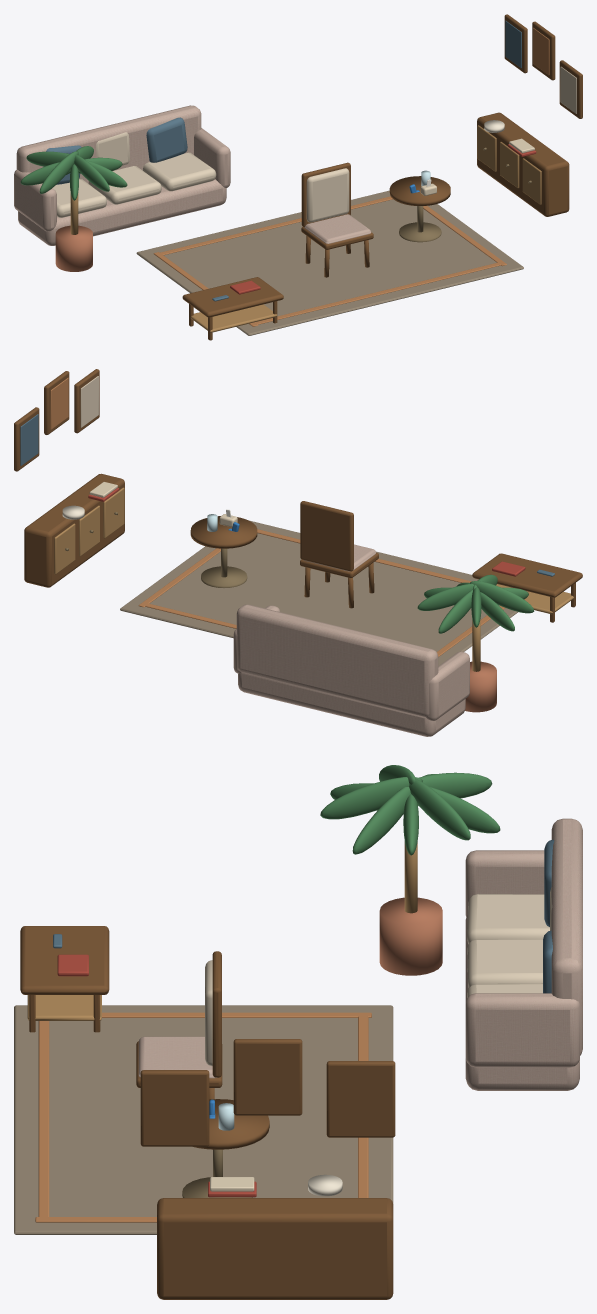
The model's file is resp-001-villa-dressing.glb.
3 renders of one model, top to bottom at view 1: azimuth 30°, elevation 25°; view 2: azimuth 150°, elevation 25°; view 3: azimuth 270°, elevation 25°, orthographic. The views are drawn at different scales.
Visible parts, largest first — view 1: villa_woven_rug, villa_sofa_plinth, villa_sofa_back, villa_media_console, villa_coffee_table_top, asthma_chair_back_cushion, villa_sofa_seat_2, villa_sofa_arm_-2.72, date_palm_pot, villa_loose_cushion_2, villa_sofa_seat_1, villa_sofa_arm_-0.36 (+24 smaller); view 2: villa_woven_rug, villa_sofa_back, villa_media_console, villa_sofa_plinth, asthma_chair_back_frame, villa_coffee_table_top, villa_sofa_arm_-2.72, side_table_top, date_palm_pot, date_palm_frond_5, console_door_0.88, console_door_-0.18 (+15 smaller); view 3: villa_woven_rug, villa_media_console, villa_sofa_arm_-0.36, villa_sofa_back, villa_coffee_table_top, wall_frame_1, wall_frame_0, wall_frame_2, date_palm_pot, villa_sofa_arm_-2.72, villa_sofa_seat_0, villa_sofa_seat_1 (+19 smaller).
Boxes of the visible parts, x1=… form: villa_woven_rug: x1=136, y1=190, x2=523, y2=335; villa_sofa_plinth: x1=18, y1=179, x2=226, y2=245; villa_sofa_back: x1=16, y1=105, x2=201, y2=183; villa_media_console: x1=477, y1=112, x2=569, y2=216; villa_coffee_table_top: x1=182, y1=277, x2=283, y2=317; asthma_chair_back_cushion: x1=306, y1=168, x2=349, y2=222; villa_sofa_seat_2: x1=143, y1=152, x2=216, y2=191; villa_sofa_arm_-2.72: x1=14, y1=169, x2=56, y2=231; date_palm_pot: x1=55, y1=225, x2=92, y2=271; villa_loose_cushion_2: x1=146, y1=117, x2=187, y2=162; villa_sofa_seat_1: x1=88, y1=166, x2=161, y2=204; villa_sofa_arm_-0.36: x1=194, y1=128, x2=230, y2=188; villa_woven_rug: x1=120, y1=520, x2=518, y2=665; villa_sofa_back: x1=236, y1=604, x2=438, y2=717; villa_media_console: x1=24, y1=473, x2=124, y2=587; villa_sofa_plinth: x1=238, y1=672, x2=465, y2=736; asthma_chair_back_frame: x1=300, y1=501, x2=353, y2=571; villa_coffee_table_top: x1=472, y1=553, x2=582, y2=597; villa_sofa_arm_-2.72: x1=426, y1=651, x2=469, y2=720; side_table_top: x1=190, y1=516, x2=257, y2=548; date_palm_pot: x1=465, y1=661, x2=496, y2=712; date_palm_frond_5: x1=470, y1=581, x2=534, y2=613; console_door_0.88: x1=54, y1=523, x2=75, y2=574; console_door_-0.18: x1=103, y1=487, x2=124, y2=538; villa_woven_rug: x1=14, y1=1005, x2=393, y2=1234; villa_media_console: x1=157, y1=1198, x2=393, y2=1299; villa_sofa_arm_-0.36: x1=465, y1=993, x2=579, y2=1067; villa_sofa_back: x1=551, y1=818, x2=582, y2=1055; villa_coffee_table_top: x1=20, y1=926, x2=109, y2=994; wall_frame_1: x1=233, y1=1039, x2=302, y2=1115; wall_frame_0: x1=326, y1=1061, x2=395, y2=1137; wall_frame_2: x1=140, y1=1070, x2=209, y2=1146; date_palm_pot: x1=379, y1=897, x2=442, y2=975; villa_sofa_arm_-2.72: x1=465, y1=850, x2=544, y2=916; villa_sofa_seat_0: x1=467, y1=894, x2=549, y2=943; villa_sofa_seat_1: x1=467, y1=939, x2=542, y2=987.
Size of the model in its own units: 6.43 by 2.11 by 3.98.
16 materials, 1 textured.
